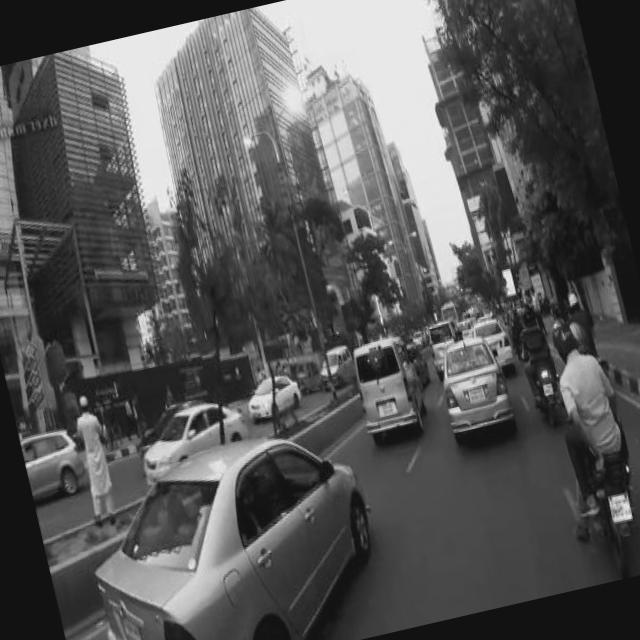bus: (440, 294, 462, 318)
car: (68, 409, 398, 640), (133, 392, 257, 485), (431, 328, 519, 440), (20, 422, 90, 496), (242, 367, 305, 419), (470, 311, 516, 366)
motorcycle: (549, 352, 640, 570), (526, 354, 566, 426), (294, 355, 324, 391)
truck: (348, 330, 431, 436), (424, 318, 466, 370), (314, 340, 357, 386), (407, 339, 432, 385)
